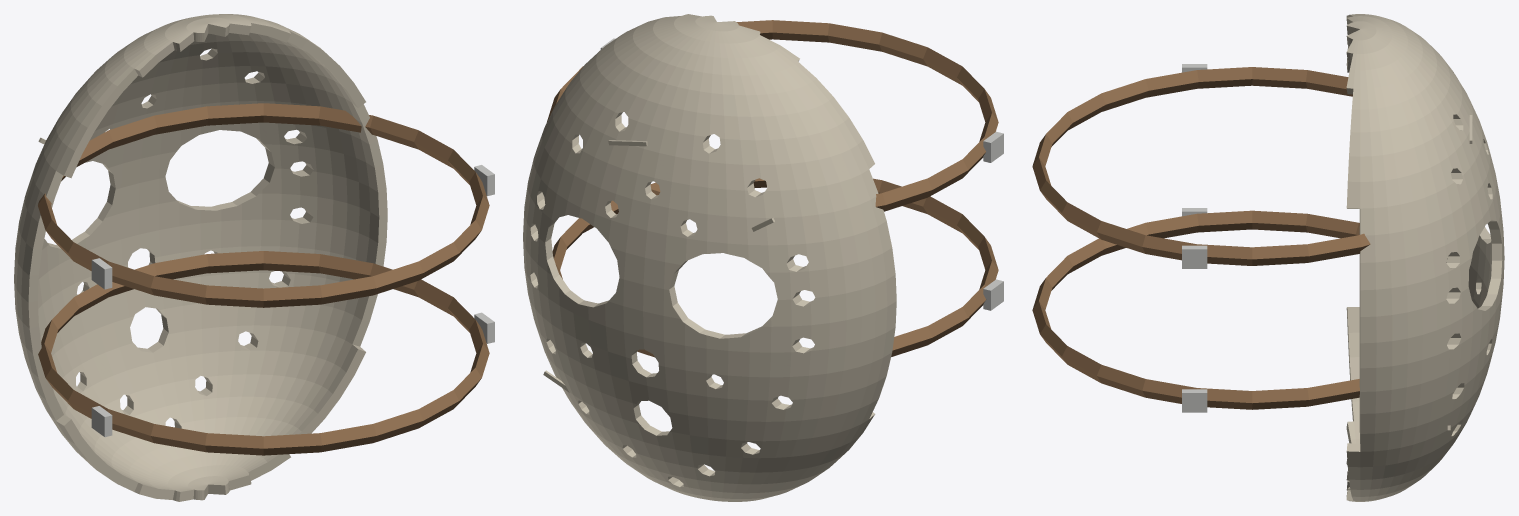
Rendered from face_hockey_mask.glb.
3 renders of one model, left to right at view 1: azimuth 30°, elevation 25°; view 2: azimuth 150°, elevation 25°; view 3: azimuth 270°, elevation 25°, orthographic. The views are drawn at different scales.
Visible parts, largest first — view 1: Head; view 2: Head; view 3: Head.
Part boxes in pixels (x1,y1,x2,y2): Head: (14,14,494,501); Head: (523,14,1003,501); Head: (1032,14,1504,501).
Size of the model in its own units: 0.61 by 0.7 by 0.655.
